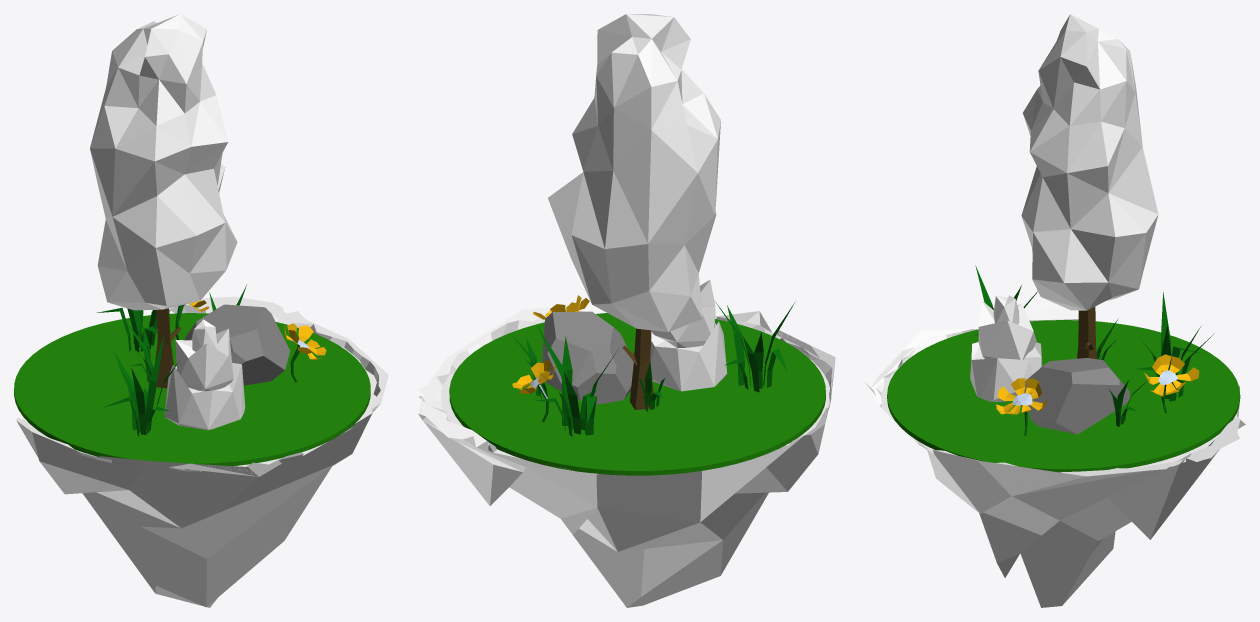
The model's file is medium2disc.gltf.
3 views of the same model, side by side, from view 1: azimuth 30°, elevation 25°; view 2: azimuth 150°, elevation 25°; view 3: azimuth 270°, elevation 25° (orthographic). The views are drawn at different scales.
Visible parts, largest first — view 1: Tree5Group3, Bedrock.001, Ground.001, Bush2, Rock.001, Grass-m.002, Grass-m.001, flower2.002; view 2: Tree5Group3, Bedrock.001, Ground.001, Rock.001, Bush2, Grass-m.001, Grass-m.002, flower2.001; view 3: Tree5Group3, Ground.001, Bedrock.001, Rock.001, Bush2, flower2.001, flower2.002, Grass-m.001.
Part boxes in pixels (x1,y1,x2,y2): Tree5Group3: (90,14,237,388); Bedrock.001: (16,296,388,607); Ground.001: (14,313,370,466); Bush2: (164,319,245,430); Rock.001: (185,304,289,385); Grass-m.002: (103,334,179,436); Grass-m.001: (97,307,157,352); flower2.002: (284,323,326,382); Tree5Group3: (548,14,720,410); Bedrock.001: (417,305,835,607); Ground.001: (449,313,825,475); Rock.001: (542,311,633,404); Bush2: (650,280,727,391); Grass-m.001: (536,324,618,437); Grass-m.002: (715,301,794,392); flower2.001: (512,359,555,421); Tree5Group3: (1021,14,1158,359); Ground.001: (887,320,1240,472); Bedrock.001: (864,308,1245,607); Rock.001: (1024,358,1129,434); Bush2: (970,295,1042,401); flower2.001: (1144,354,1199,413); flower2.002: (996,378,1048,435); Grass-m.001: (1136,292,1214,401).
Bounding box in the file's own units: 1.83 × 2.99 × 1.8.
